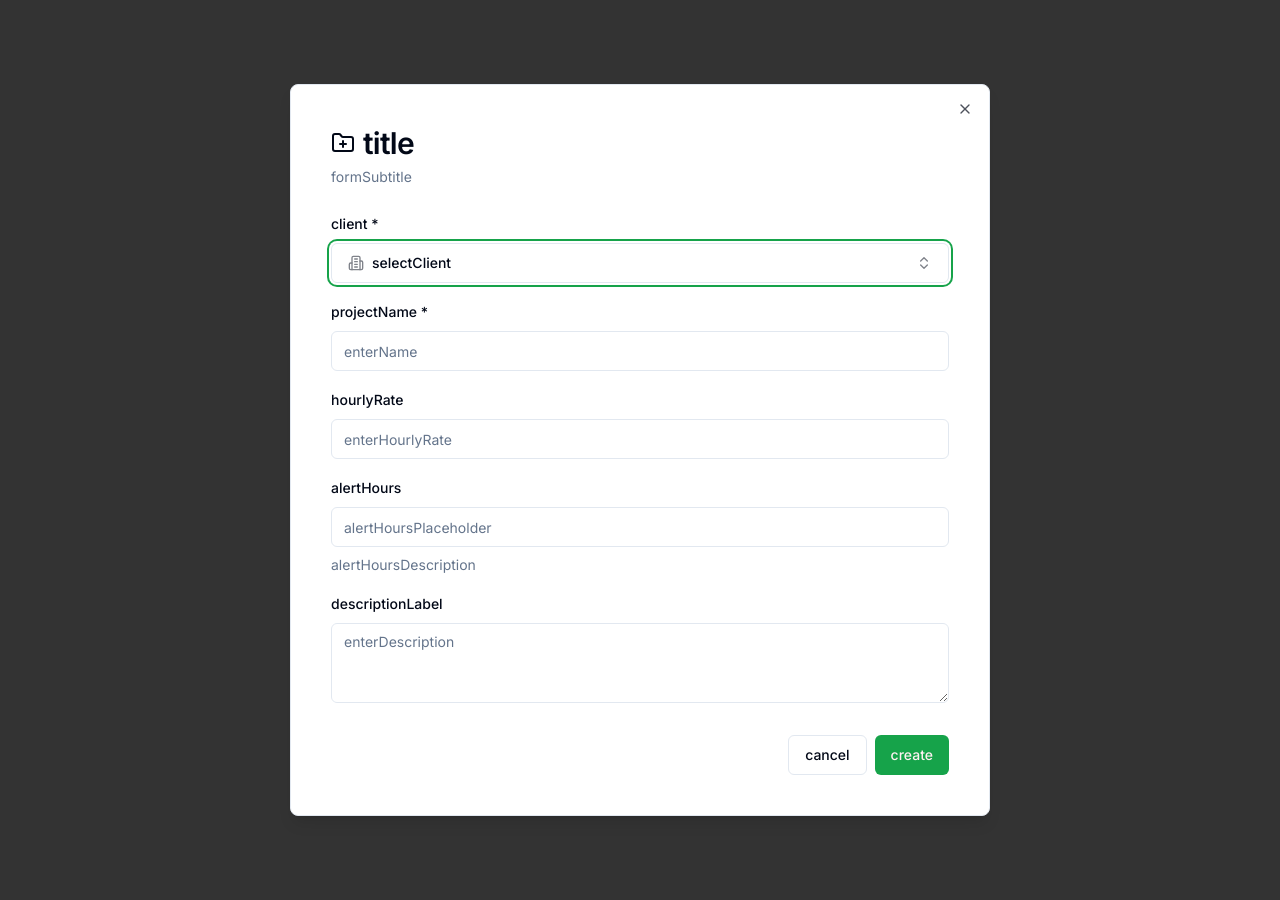
Test: ProjectCreateDialog › validates required fields
# Submit without filling required fields
Click the button "create" at {"x": 912, "y": 755}, box [875,735,949,775]
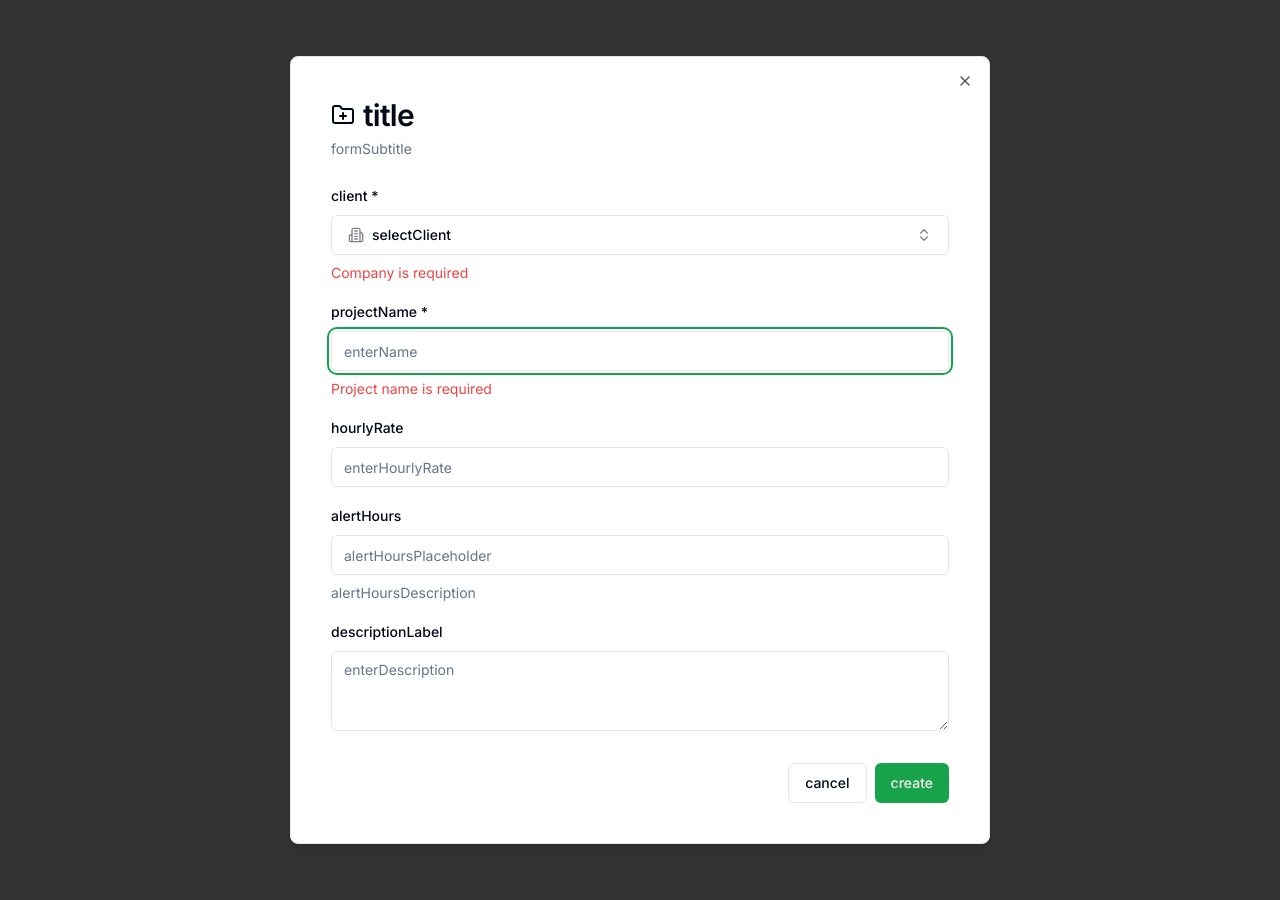
Expected: the text "Project name is required" is shown, [331,380,492,397]
Expected: the text "Company is required" is shown, [331,264,468,281]
